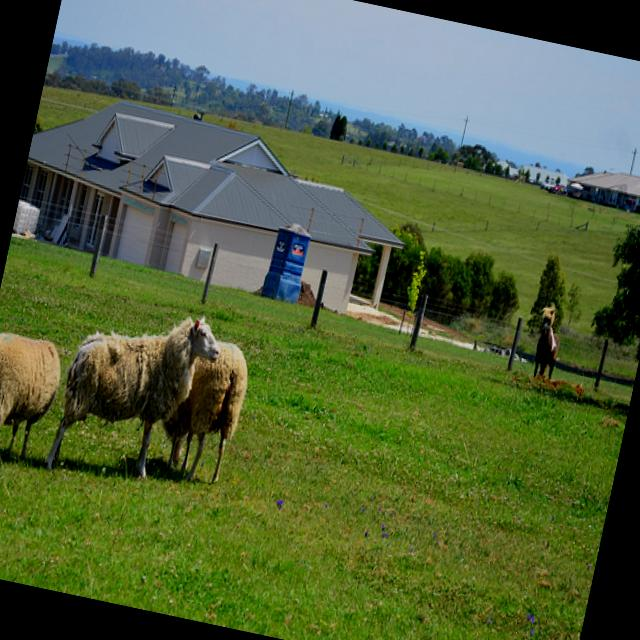Vehicle: (540, 178, 556, 192), (551, 182, 566, 195), (562, 186, 574, 198)
